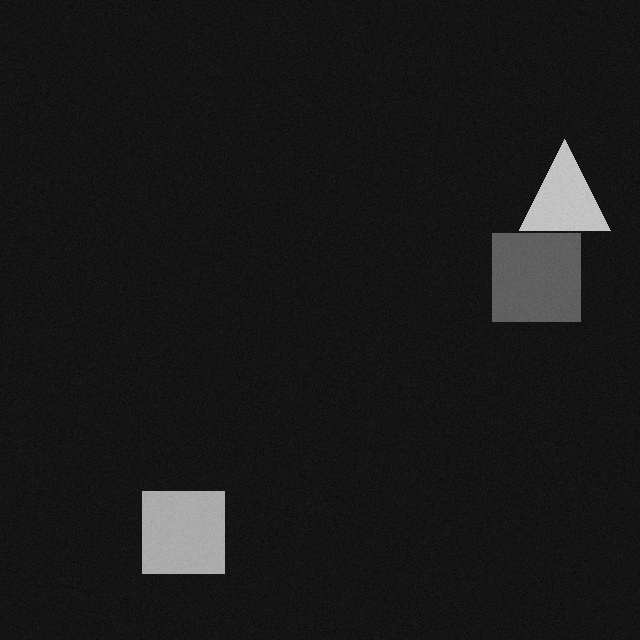square: (499, 237, 587, 325), (149, 495, 231, 577)
triangle: (526, 143, 617, 234)
